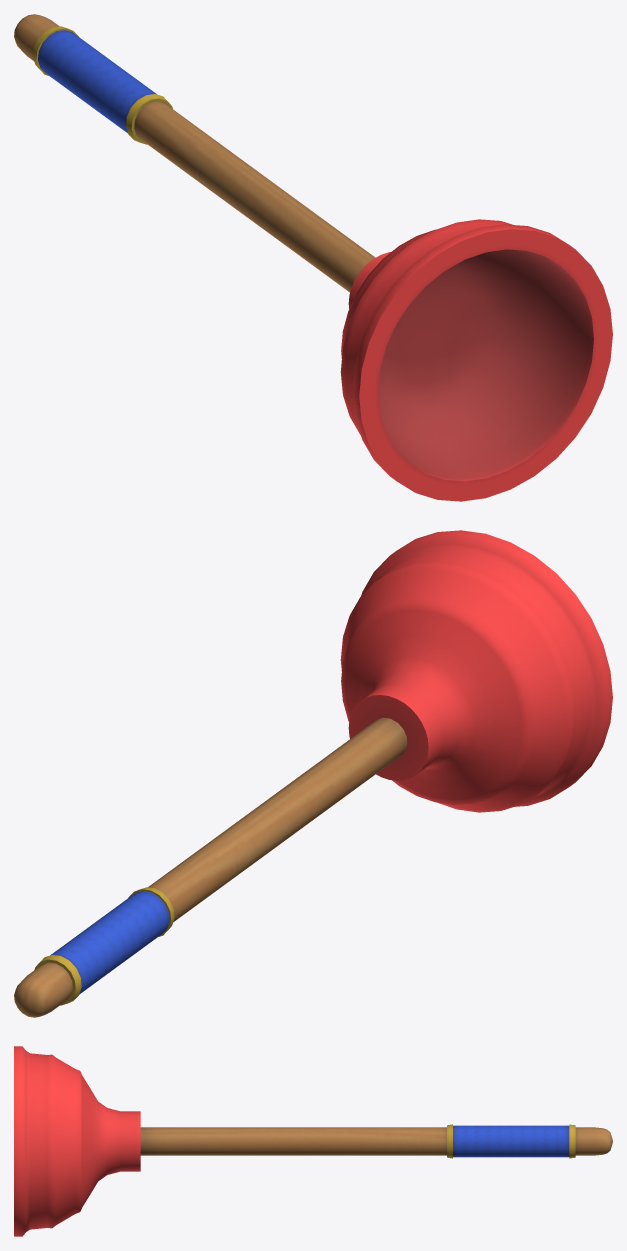
The model's file is drainplunger.fbx.
The picture shows the model from 3 angles, top to bottom: view 1: azimuth 30°, elevation 25°; view 2: azimuth 150°, elevation 25°; view 3: azimuth 270°, elevation 25°; orthographic projection. The views are drawn at different scales.
Visible parts, largest first — view 1: Drainplunger; view 2: Drainplunger; view 3: Drainplunger.
Boxes of the visible parts, x1,y1,x2,y2 form: Drainplunger: (14,14,612,501); Drainplunger: (14,530,612,1017); Drainplunger: (14,1046,612,1236).
Bounding box in the file's own units: 32.81 × 32.81 × 103.
